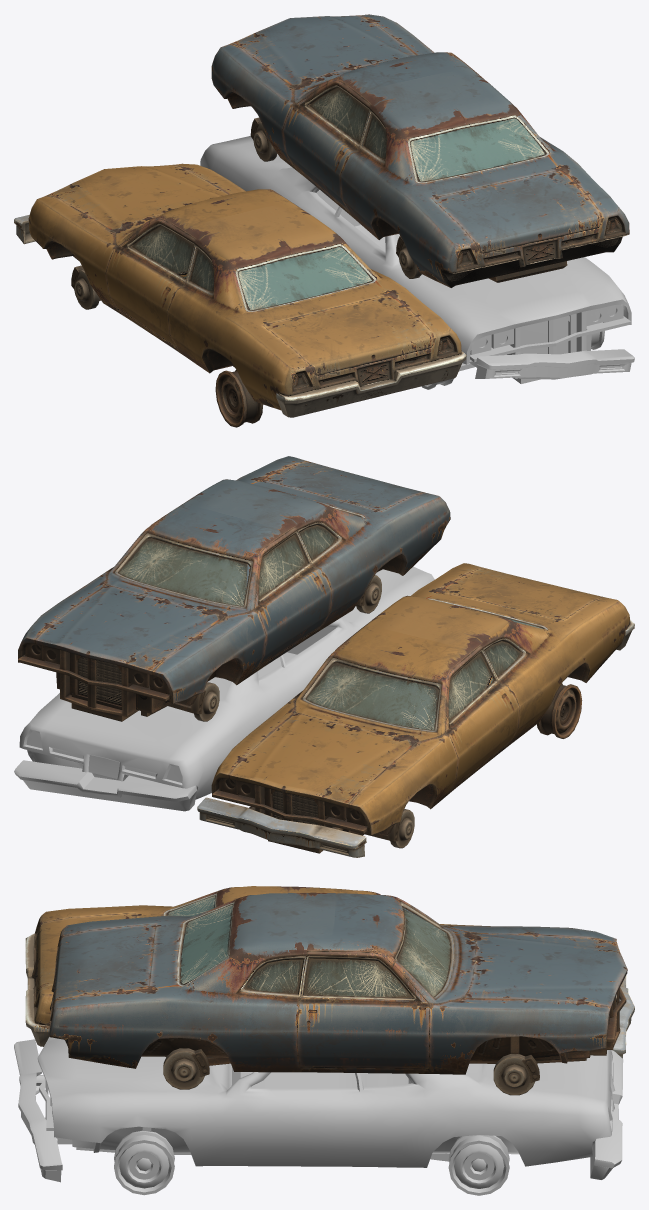
File: wreck_stack4..fbx
3 renders of one model, top to bottom at view 1: azimuth 30°, elevation 25°; view 2: azimuth 150°, elevation 25°; view 3: azimuth 270°, elevation 25°, orthographic. The views are drawn at different scales.
Parts seen in each view (by area): view 1: model_1, model_2, model_0; view 2: model_1, model_2, model_0; view 3: model_2, model_0, model_1.
Part boxes in pixels (x1,y1,x2,y2): model_1: (14,163,466,427); model_2: (211,14,629,287); model_0: (200,136,634,389); model_1: (197,563,634,857); model_2: (18,456,450,721); model_0: (14,566,434,811); model_2: (49,892,627,1095); model_0: (14,1037,623,1195); model_1: (25,886,634,1058).
Bounding box in the file's own units: 321 × 183 × 437.
